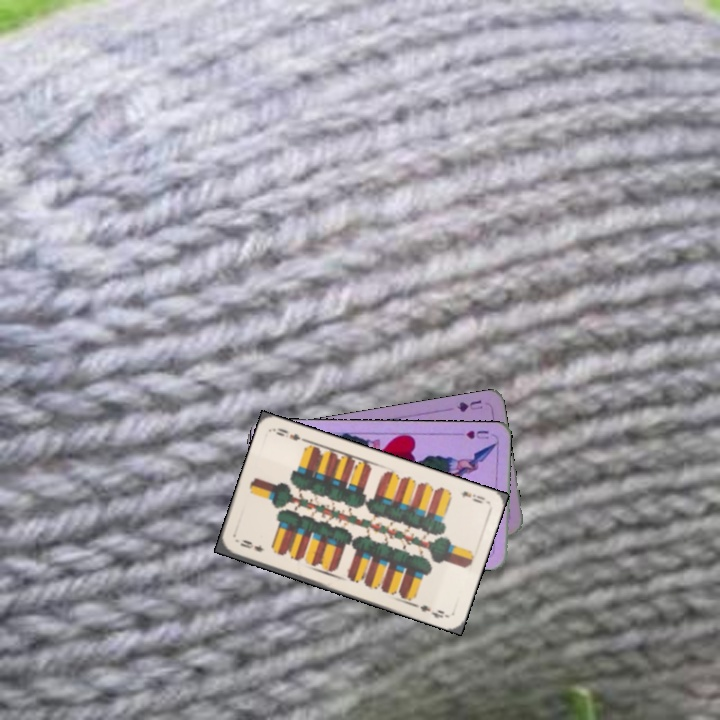E9: (456, 487, 488, 506), (236, 535, 266, 554)
GU: (452, 396, 485, 414)
HU: (463, 427, 491, 441)
